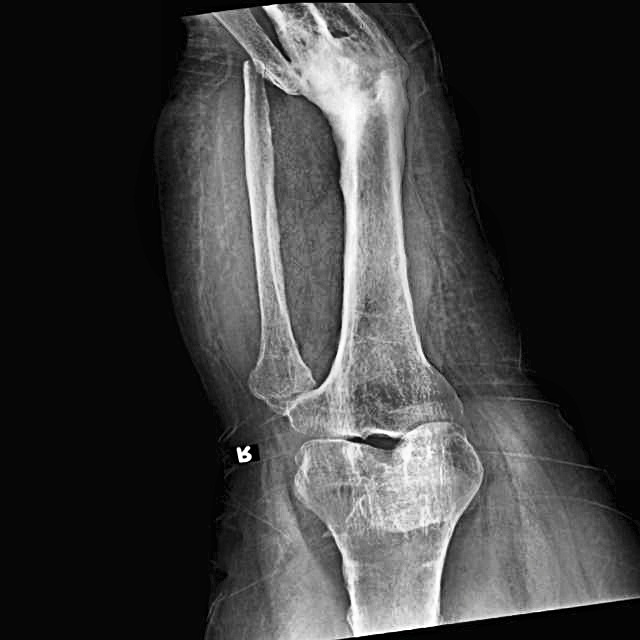Oblique: (209, 26, 319, 132)
